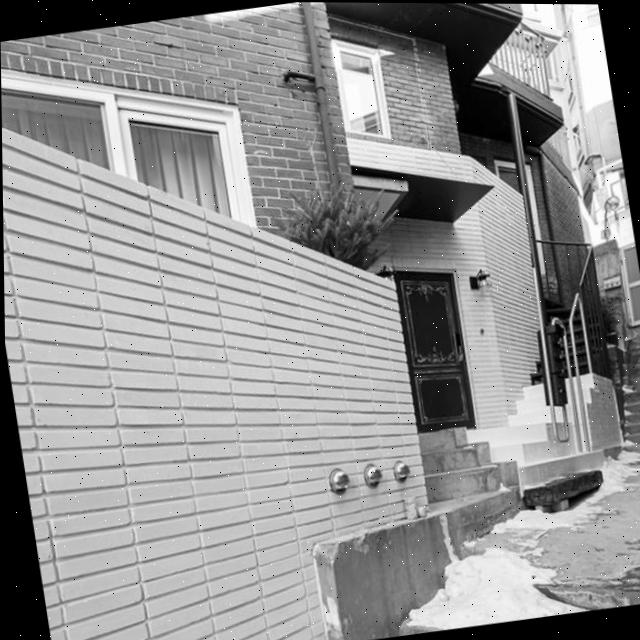building: (0, 0, 640, 597)
